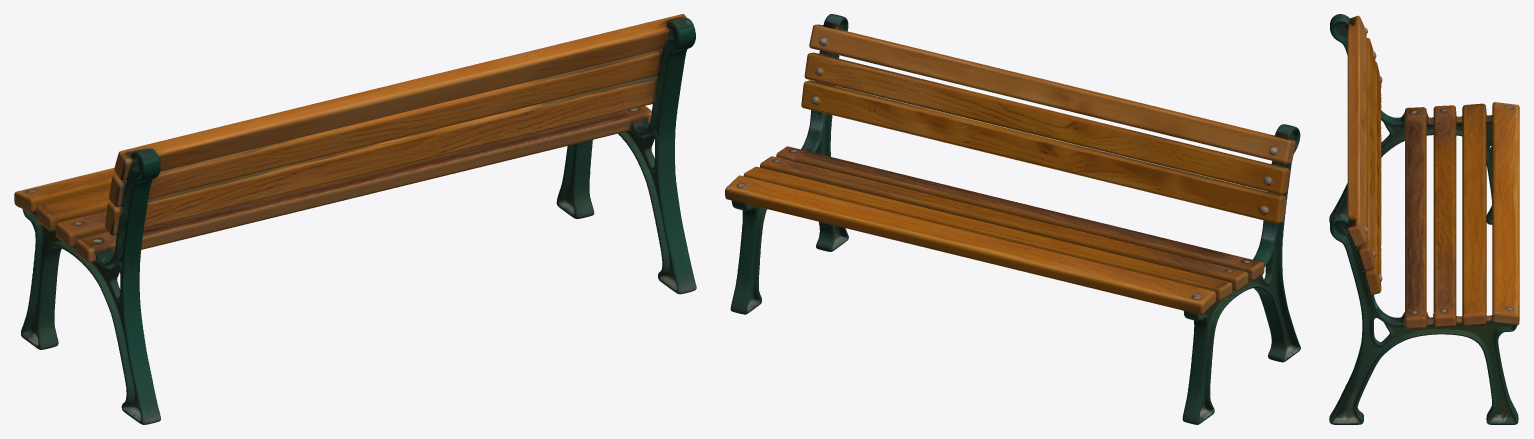
The model's file is Bench.glb.
3 views of the same model, side by side, from view 1: azimuth 30°, elevation 25°; view 2: azimuth 150°, elevation 25°; view 3: azimuth 270°, elevation 25° (orthographic). The views are drawn at different scales.
Parts seen in each view (by area): view 1: tripo_node_fbb57c19-8ba2-42f8-b417-442960231e94; view 2: tripo_node_fbb57c19-8ba2-42f8-b417-442960231e94; view 3: tripo_node_fbb57c19-8ba2-42f8-b417-442960231e94.
Part boxes in pixels (box(x1,y1,x2,y2)): tripo_node_fbb57c19-8ba2-42f8-b417-442960231e94: box(14, 14, 696, 424); tripo_node_fbb57c19-8ba2-42f8-b417-442960231e94: box(725, 14, 1300, 424); tripo_node_fbb57c19-8ba2-42f8-b417-442960231e94: box(1329, 14, 1519, 424).
Size of the model in its own units: 1 by 0.4536 by 0.3804.
1 material, 1 textured.
